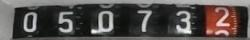digits: (97, 10, 114, 32), (136, 9, 152, 32), (216, 5, 232, 28), (57, 11, 73, 33), (175, 10, 191, 32), (22, 11, 38, 32)
